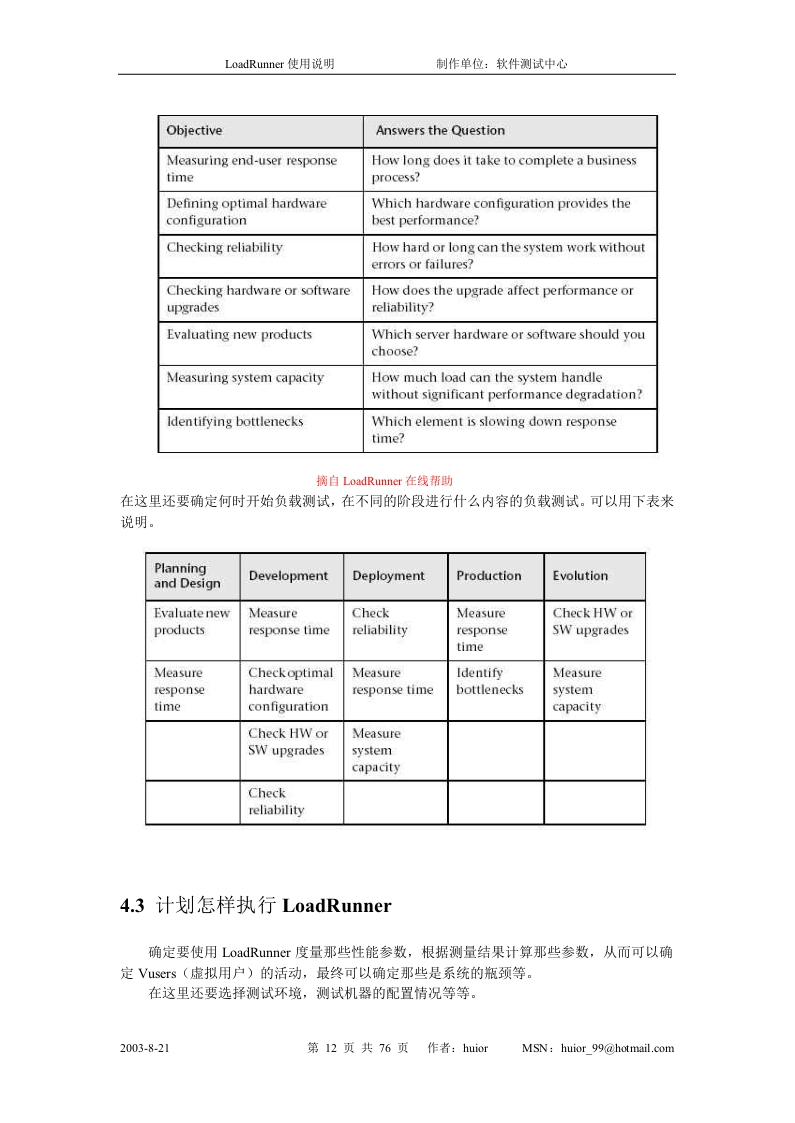table: (120, 539, 674, 859), (156, 115, 658, 453)
